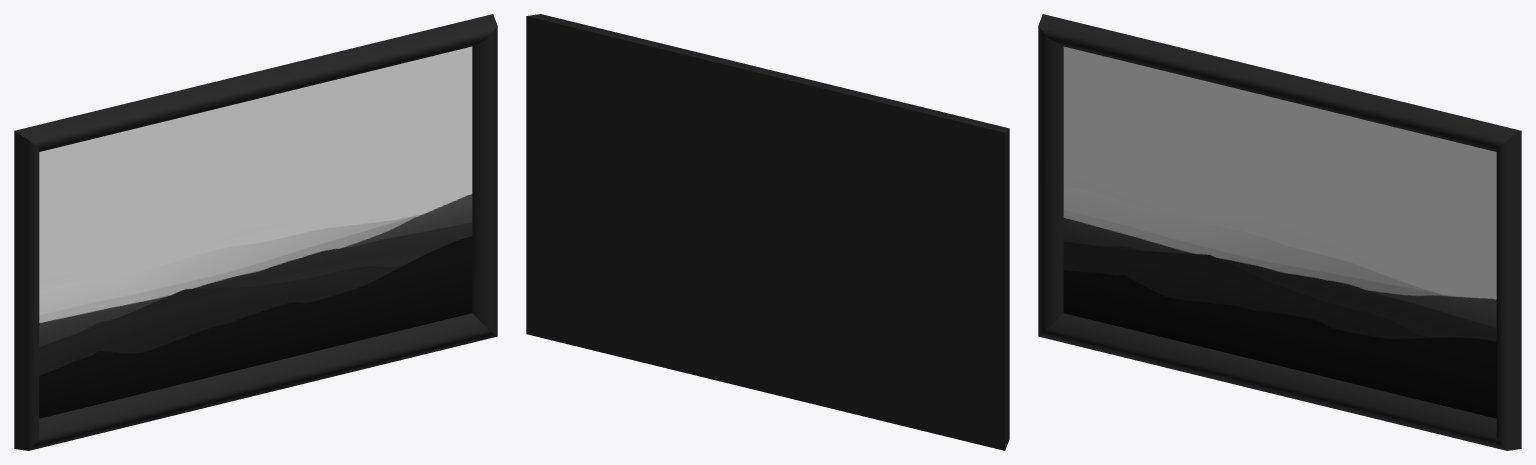
File: picture_016.fbx
The picture shows the model from 3 angles, left to right: view 1: azimuth 30°, elevation 25°; view 2: azimuth 150°, elevation 25°; view 3: azimuth 330°, elevation 25°; orthographic projection.
Visible parts, largest first — view 1: picture_016; view 2: picture_016; view 3: picture_016.
Part boxes in pixels (left/top/right/bottom): picture_016: left=14, top=14, right=497, bottom=450; picture_016: left=526, top=14, right=1009, bottom=450; picture_016: left=1038, top=14, right=1521, bottom=450.
Bounding box in the file's own units: 143 × 4.86 × 90.77.
